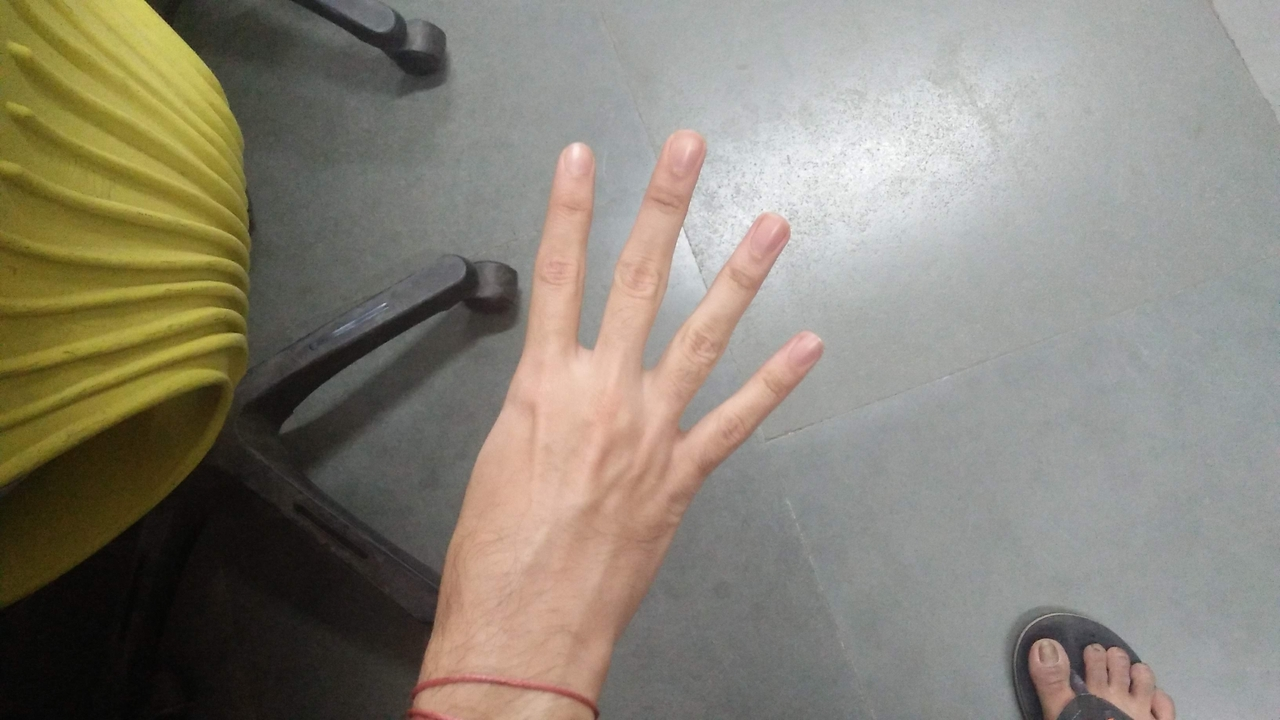fingertip: (734, 202, 796, 262), (652, 124, 718, 178), (542, 134, 604, 186), (770, 322, 832, 374)
